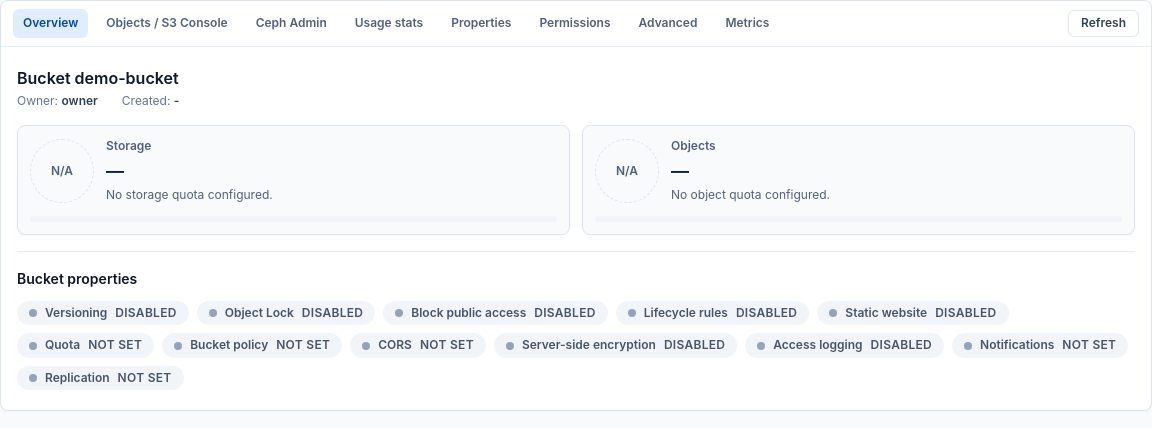
it: BucketDetailPage replication state › shows a read-only object browser for Ceph Admin buckets
The width and height of the screenshot is (1152, 428).
Click the button "Objects / S3 Console" at (167, 23), box x1=96 y1=9 x2=238 y2=38
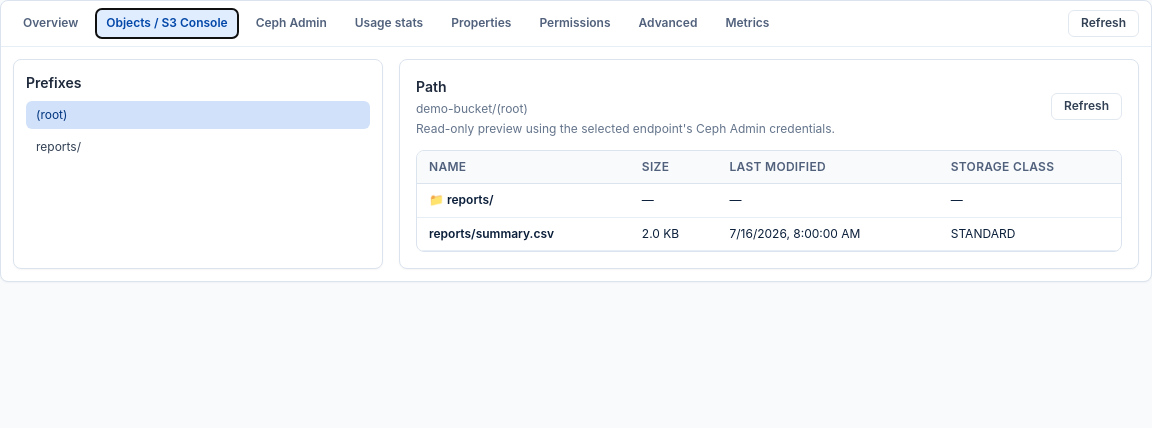
Expected: the text "reports/summary.csv" is shown, x1=417 y1=218 x2=630 y2=251
Expected: the text "Read-only preview using the selected endpoint's Ceph Admin credentials." is shown, x1=416 y1=121 x2=835 y2=138
